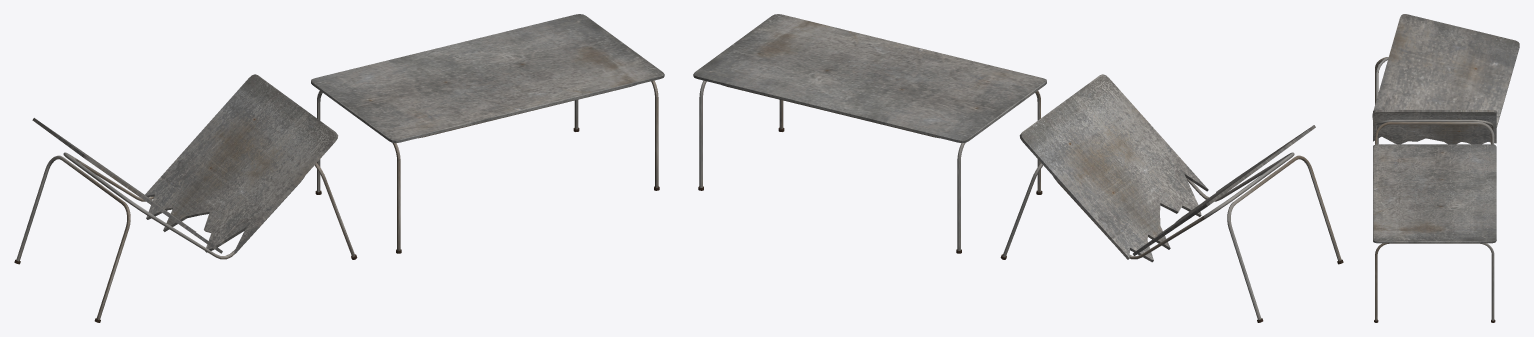
File: Tables.FBX
3 renders of one model, left to right at view 1: azimuth 30°, elevation 25°; view 2: azimuth 150°, elevation 25°; view 3: azimuth 270°, elevation 25°, orthographic. The views are drawn at different scales.
Parts seen in each view (by area): view 1: Table_Standard, Table_Destroyed; view 2: Table_Standard, Table_Destroyed; view 3: Table_Destroyed, Table_Standard.
Boxes of the visible parts, x1,y1,x2,y2 form: Table_Standard: [311, 14, 664, 253]; Table_Destroyed: [14, 74, 357, 322]; Table_Standard: [693, 14, 1046, 253]; Table_Destroyed: [1000, 74, 1343, 322]; Table_Destroyed: [1372, 14, 1519, 144]; Table_Standard: [1373, 144, 1496, 322].
Size of the model in its own units: 169 by 43.53 by 51.9.
